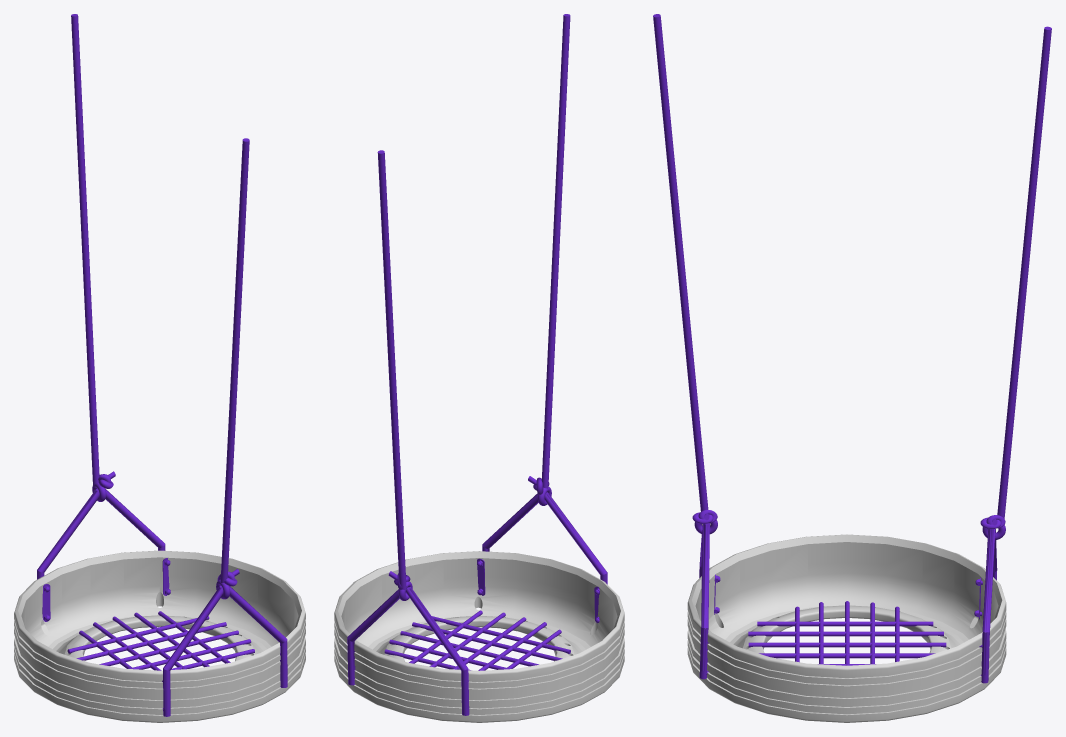
The model's file is Swing_Seat_Tire_Metal.fbx.
3 renders of one model, left to right at view 1: azimuth 30°, elevation 25°; view 2: azimuth 150°, elevation 25°; view 3: azimuth 270°, elevation 25°, orthographic. The views are drawn at different scales.
Parts seen in each view (by area): view 1: Model, Group5, Group4, Group24, Group16, Component_2_1, Component_2_2, Component_2_5, Component_2_4; view 2: Model, Group4, Group5, Group16, Group24, Component_2_3, Component_2_4, Component_2_5, Component_2_1; view 3: Model, Group4, Group5, Group16, Group24, Component_2_10, Component_2_9, Component_2_8, Component_2_6.
Boxes of the visible parts, box(x1,y1,x2,y2) form: Model: box(14, 482, 305, 722); Group5: box(71, 14, 99, 487); Group4: box(220, 138, 249, 582); Group24: box(163, 586, 287, 716); Group16: box(37, 488, 165, 579); Component_2_1: box(76, 622, 226, 660); Component_2_2: box(67, 616, 209, 653); Component_2_5: box(99, 630, 238, 665); Component_2_4: box(128, 639, 251, 669); Model: box(334, 486, 624, 722); Group4: box(541, 14, 570, 488); Group5: box(377, 150, 406, 590); Group16: box(347, 587, 469, 715); Group24: box(482, 492, 607, 584); Component_2_3: box(431, 616, 570, 653); Component_2_4: box(412, 622, 562, 660); Component_2_5: box(400, 631, 538, 666); Component_2_1: box(389, 639, 510, 669); Model: box(687, 520, 1006, 722); Group4: box(653, 14, 708, 511); Group5: box(997, 26, 1051, 518); Group16: box(981, 528, 997, 683); Group24: box(699, 523, 709, 679); Component_2_10: box(748, 642, 946, 647); Component_2_9: box(748, 631, 943, 636); Component_2_8: box(757, 621, 933, 626); Component_2_6: box(759, 653, 935, 658).
Bounding box in the file's own units: 1078 × 2429 × 1349.
